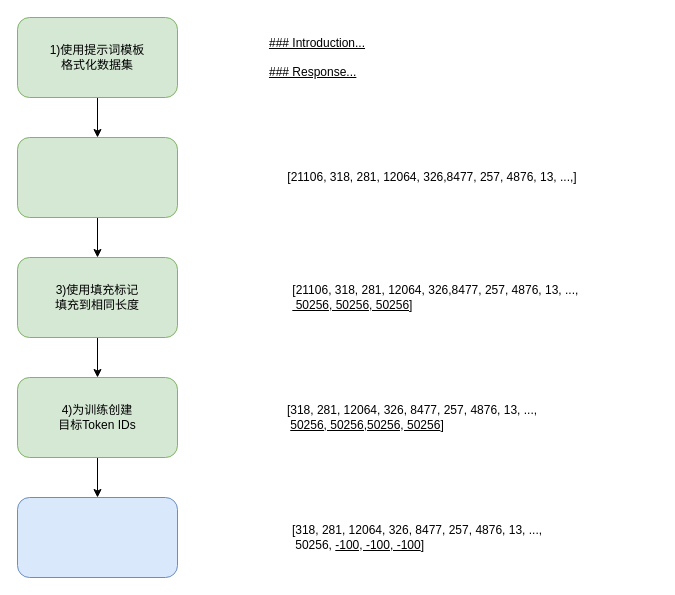
The diagram is 675 pixels wide and 595 high, and some of its shapes have lost their labels. The shapes that lost their labels are listed below. From the top down, each one's centre as x and y in pixels, then its label:
At point (97, 177): "2)标记化 格式化后的数据".
At point (97, 537): "5)使用占位符 替换填充标记".
